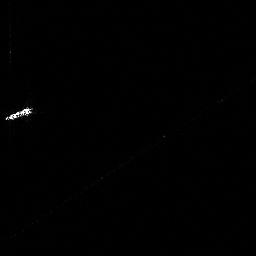ship: (3, 104, 33, 122)
